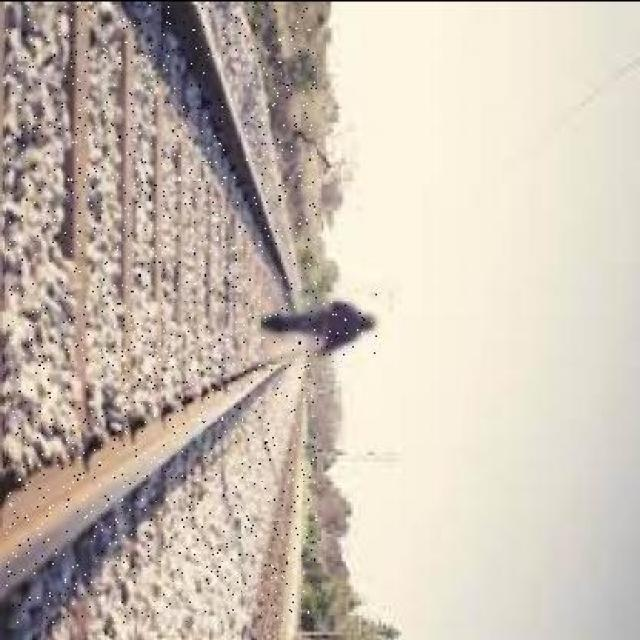danger: (260, 291, 386, 364)
rail: (6, 4, 316, 622)
